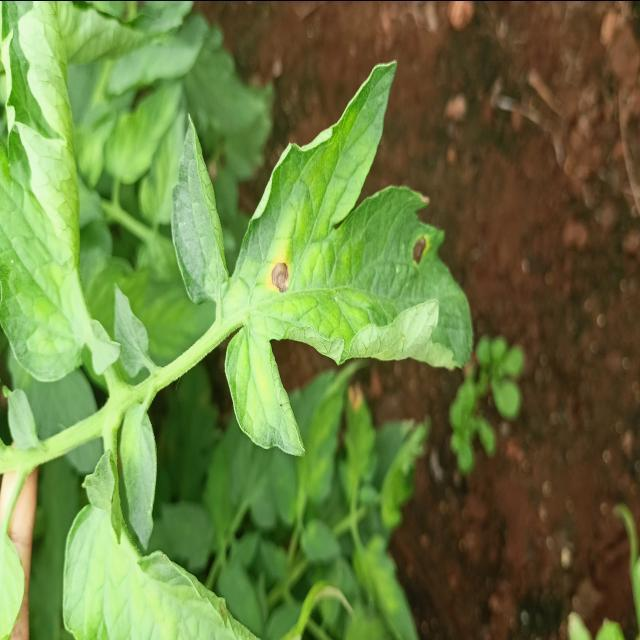Tomato mosaic virus leaf: (221, 178, 477, 378)
